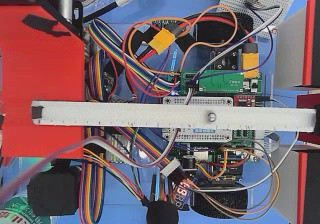ironball: (206, 111, 216, 122)
